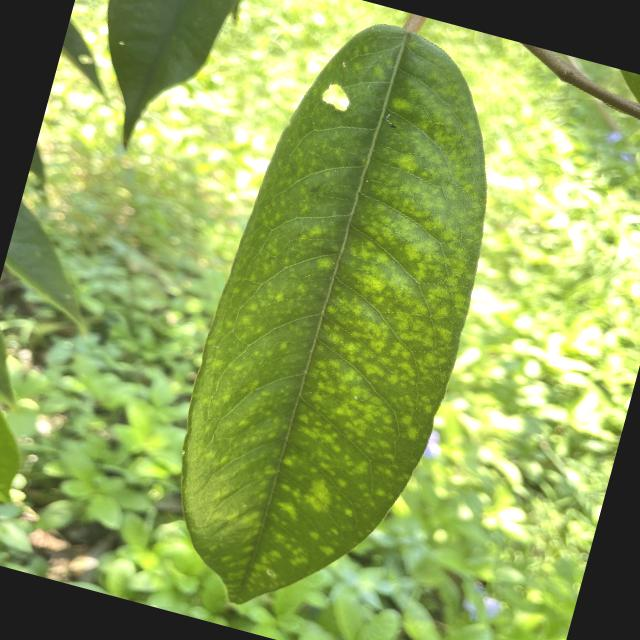Leaf Spot: (134, 0, 550, 639)
